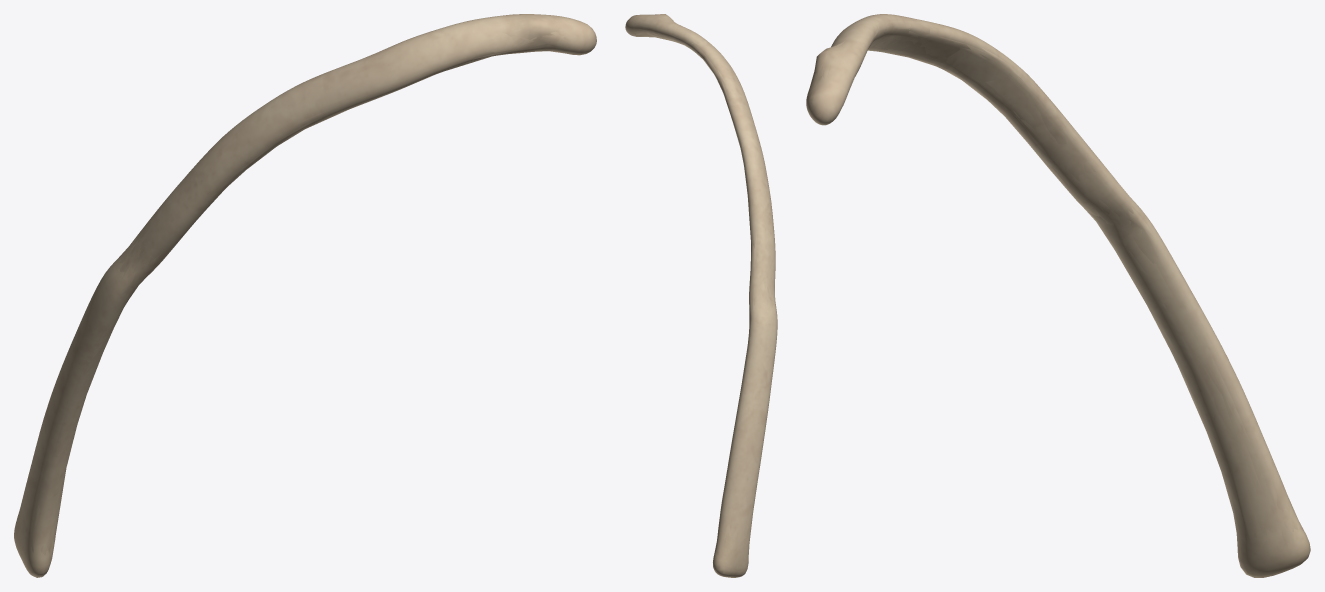
The model's file is Rib R10.fbx.
3 renders of one model, left to right at view 1: azimuth 30°, elevation 25°; view 2: azimuth 150°, elevation 25°; view 3: azimuth 270°, elevation 25°, orthographic. The views are drawn at different scales.
Visible parts, largest first — view 1: Rib R10 high, Rib R10, Rib R10 low; view 2: Rib R10 high, Rib R10, Rib R10 low; view 3: Rib R10 low, Rib R10, Rib R10 high.
Boxes of the visible parts, box(x1,y1,x2,y2) form: Rib R10 high: box(14, 14, 596, 575); Rib R10: box(14, 14, 596, 577); Rib R10 low: box(31, 18, 568, 552); Rib R10 high: box(626, 14, 777, 577); Rib R10: box(625, 14, 777, 577); Rib R10 low: box(636, 17, 775, 554); Rib R10 low: box(810, 19, 1298, 547); Rib R10: box(806, 15, 1310, 577); Rib R10 high: box(807, 14, 1309, 576).
Size of the model in its own units: 14.85 by 23.66 by 15.68.
